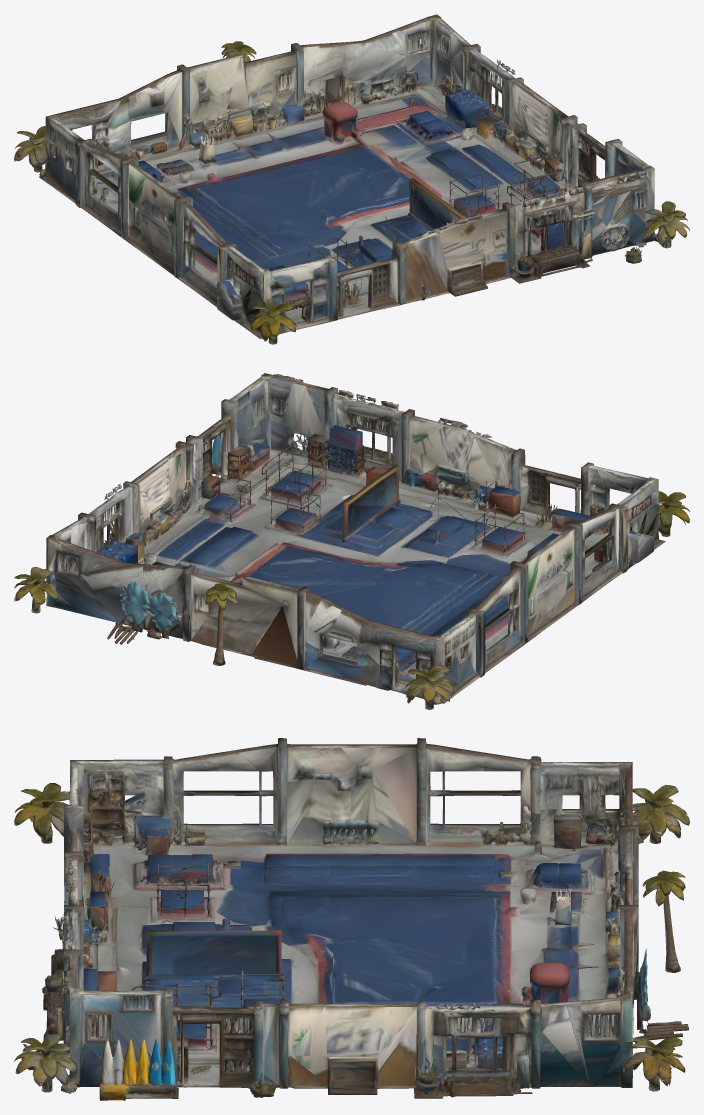
File: gymnastics-gym.glb
3 renders of one model, top to bottom at view 1: azimuth 30°, elevation 25°; view 2: azimuth 150°, elevation 25°; view 3: azimuth 270°, elevation 25°, orthographic. The views are drawn at different scales.
Parts seen in each view (by area): view 1: Mesh_0; view 2: Mesh_0; view 3: Mesh_0.
Boxes of the visible parts, x1,y1,x2,y2 form: Mesh_0: (14,14,689,344); Mesh_0: (14,373,689,709); Mesh_0: (14,738,689,1100).
Size of the model in its own units: 1.84 by 0.3156 by 1.9.
Materials: 1 (1 with a texture image).
